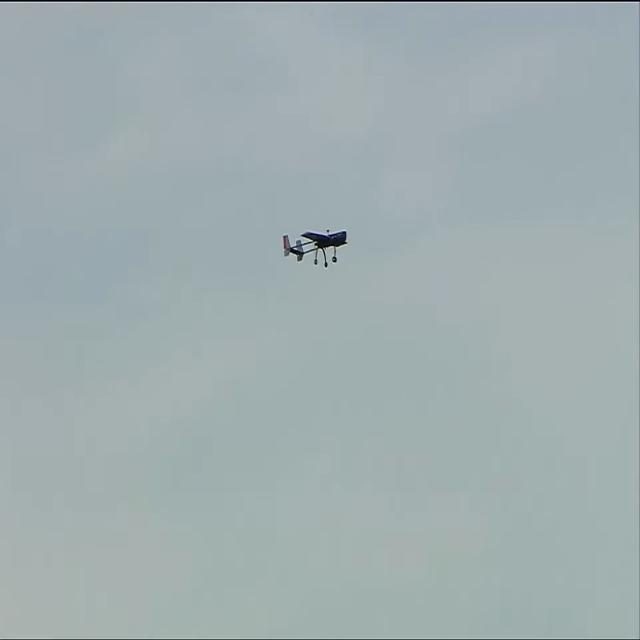iha: (314, 228, 318, 269)
